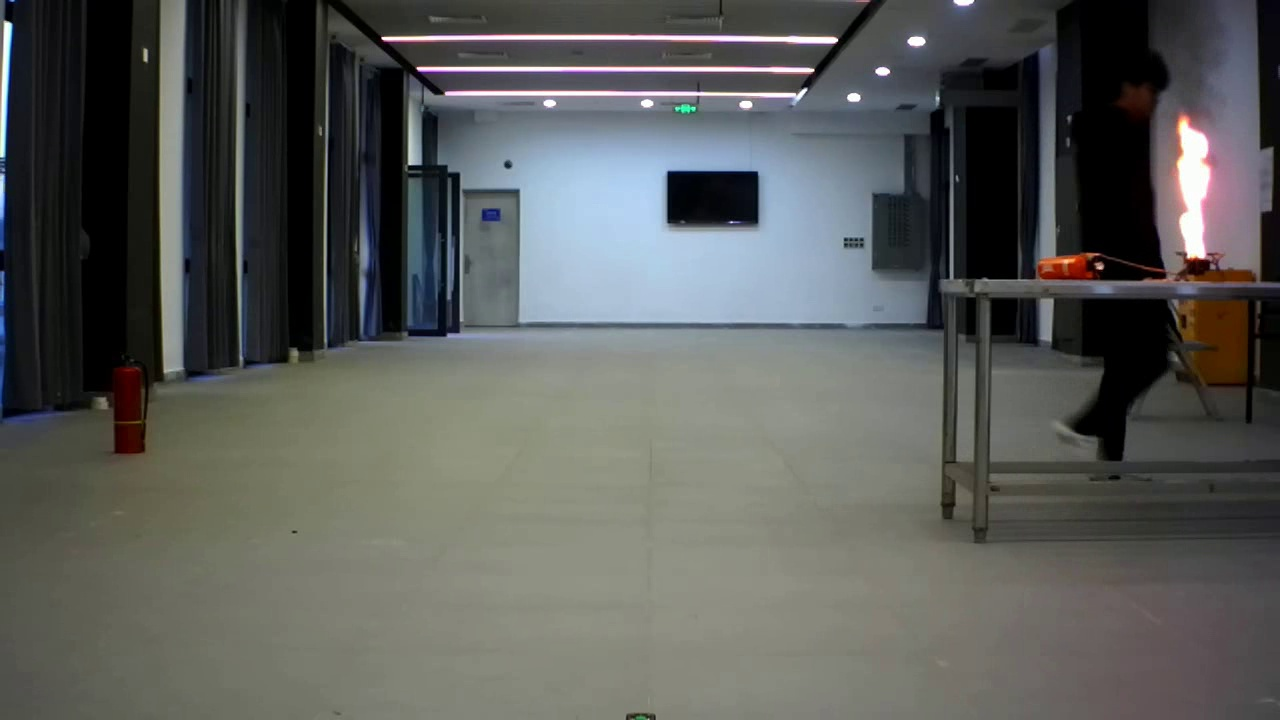Fire: (1168, 92, 1222, 265)
